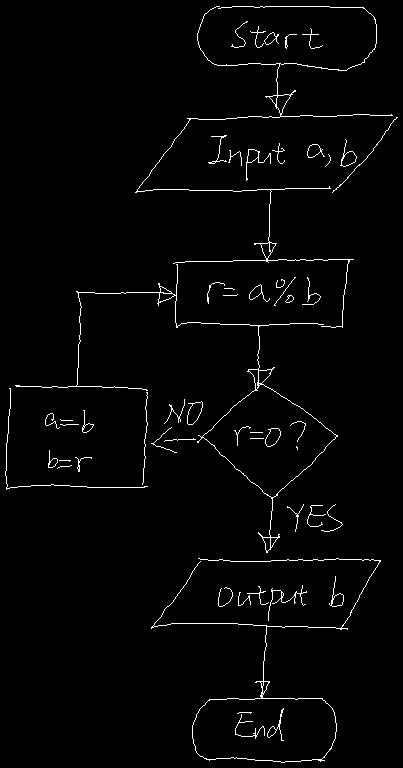arrow: (76, 283, 175, 386), (247, 325, 274, 390), (254, 189, 276, 262), (265, 64, 295, 116), (258, 494, 279, 552), (151, 427, 195, 452), (255, 625, 269, 698)
data: (135, 114, 397, 192), (151, 558, 380, 629)
decision: (197, 381, 337, 498)
process: (5, 385, 147, 489), (173, 259, 353, 327)
terminator: (197, 6, 376, 70), (192, 698, 336, 762)
text: (208, 135, 356, 180), (218, 576, 343, 620), (207, 277, 320, 305), (45, 410, 93, 471), (231, 21, 322, 48), (234, 421, 305, 449), (235, 708, 283, 740), (287, 504, 342, 531), (164, 399, 202, 424)
